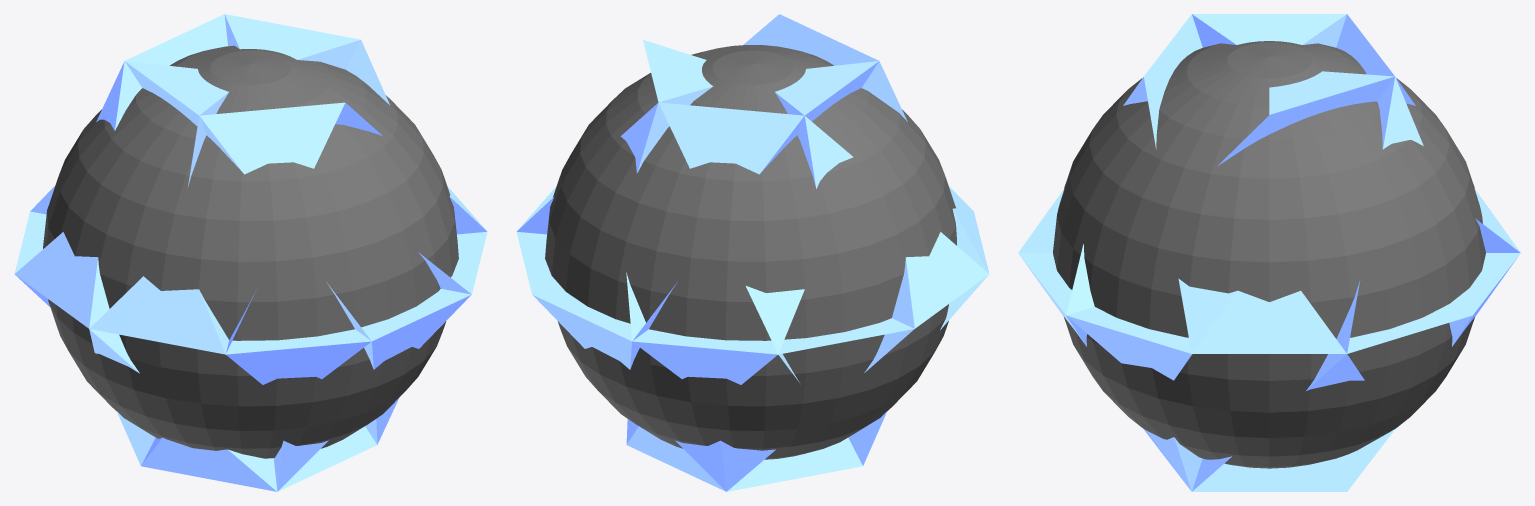
Rendered from mine.glb.
The picture shows the model from 3 angles, left to right: view 1: azimuth 30°, elevation 25°; view 2: azimuth 150°, elevation 25°; view 3: azimuth 270°, elevation 25°; orthographic projection. The views are drawn at different scales.
Visible parts, largest first — view 1: Icosphere.001, Icosphere; view 2: Icosphere.001, Icosphere; view 3: Icosphere.001, Icosphere.
Boxes of the visible parts, bbox=[...] form: Icosphere.001: bbox=[43, 45, 458, 458]; Icosphere: bbox=[14, 14, 487, 491]; Icosphere.001: bbox=[545, 45, 956, 459]; Icosphere: bbox=[516, 14, 989, 491]; Icosphere.001: bbox=[1053, 41, 1485, 468]; Icosphere: bbox=[1018, 14, 1520, 491].
Bounding box in the file's own units: 2.94 × 2.66 × 3.09.
